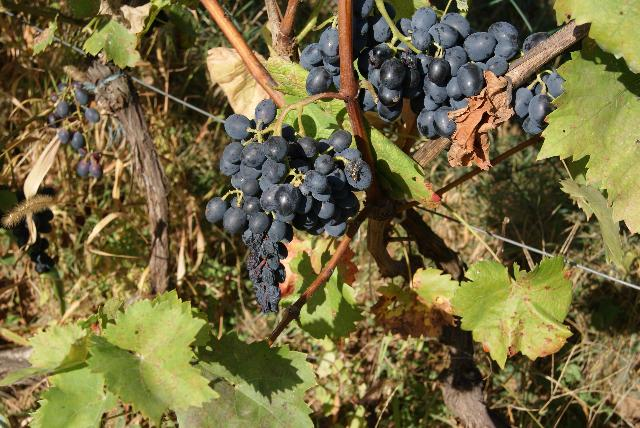grapes: (205, 126, 358, 314), (352, 0, 519, 139), (512, 71, 564, 135), (300, 27, 340, 95)
